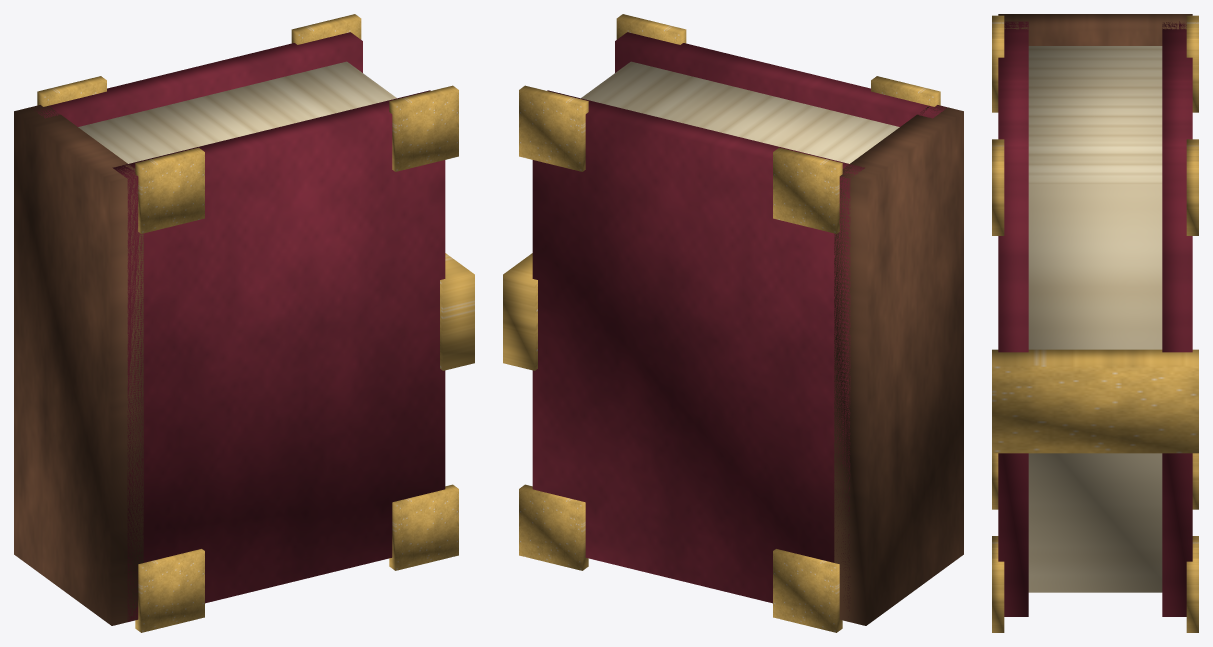
The model's file is rival_mira_ledger.obj.
3 renders of one model, left to right at view 1: azimuth 30°, elevation 25°; view 2: azimuth 150°, elevation 25°; view 3: azimuth 270°, elevation 25°, orthographic.
Parts seen in each view (by area): view 1: rival_mira_ledger; view 2: rival_mira_ledger; view 3: rival_mira_ledger.
Boxes of the visible parts, x1,y1,x2,y2 form: rival_mira_ledger: [14, 14, 474, 632]; rival_mira_ledger: [503, 14, 963, 632]; rival_mira_ledger: [992, 14, 1198, 632].
Size of the model in its own units: 0.425 by 0.525 by 0.2124.
